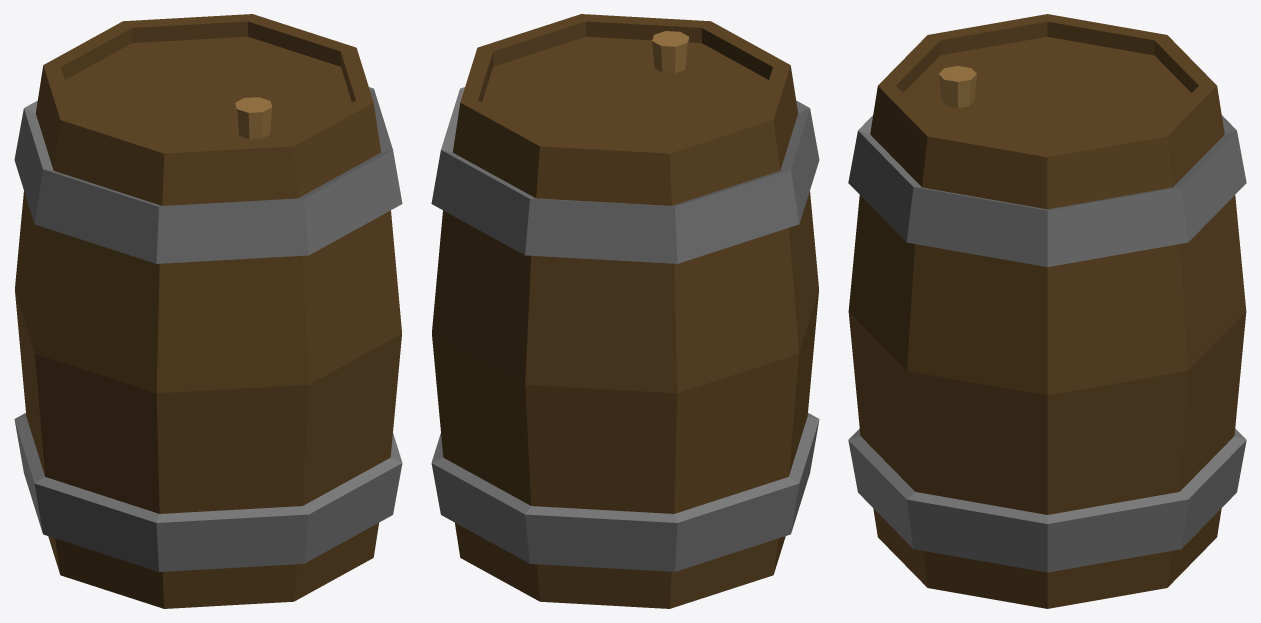
File: Barrel.fbx
3 views of the same model, side by side, from view 1: azimuth 30°, elevation 25°; view 2: azimuth 150°, elevation 25°; view 3: azimuth 270°, elevation 25° (orthographic).
Parts seen in each view (by area): view 1: Ton; view 2: Ton; view 3: Ton.
Boxes of the visible parts, x1,y1,x2,y2 form: Ton: (14,14,402,608); Ton: (431,14,819,608); Ton: (848,14,1246,608).
Bounding box in the file's own units: 1.17 × 1.5 × 1.17.
